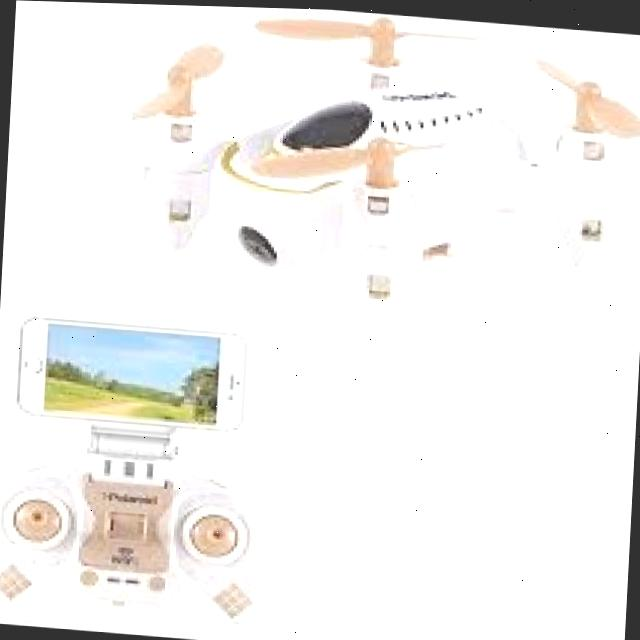drone: (105, 2, 640, 350)
